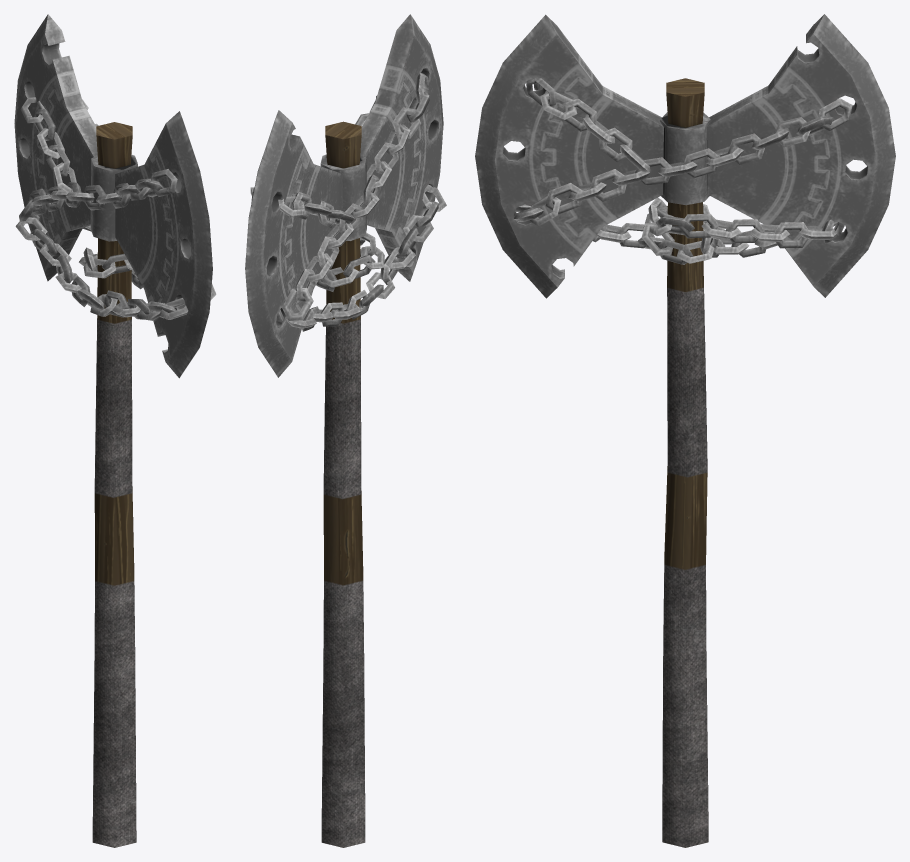
File: MeleeWeaponAgent_Hammer_Tagilla_B.fbx
3 views of the same model, side by side, from view 1: azimuth 30°, elevation 25°; view 2: azimuth 150°, elevation 25°; view 3: azimuth 270°, elevation 25° (orthographic). The views are drawn at different scales.
Visible parts, largest first — view 1: WPN_Minotaur; view 2: WPN_Minotaur; view 3: WPN_Minotaur.
Part boxes in pixels (bbox=[...]): WPN_Minotaur: bbox=[14, 14, 216, 847]; WPN_Minotaur: bbox=[245, 14, 446, 847]; WPN_Minotaur: bbox=[475, 14, 895, 847].
Size of the model in its own units: 0.1569 by 1.51 by 0.7023.
